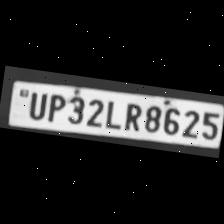2: (178, 106, 200, 140), (84, 96, 106, 128)
3: (62, 92, 86, 125)
5: (196, 107, 222, 141)
6: (160, 104, 182, 136)
8: (140, 101, 163, 134)
L: (102, 96, 124, 130)
P: (42, 90, 66, 124)
R: (119, 100, 144, 132)
U: (23, 88, 48, 120)
